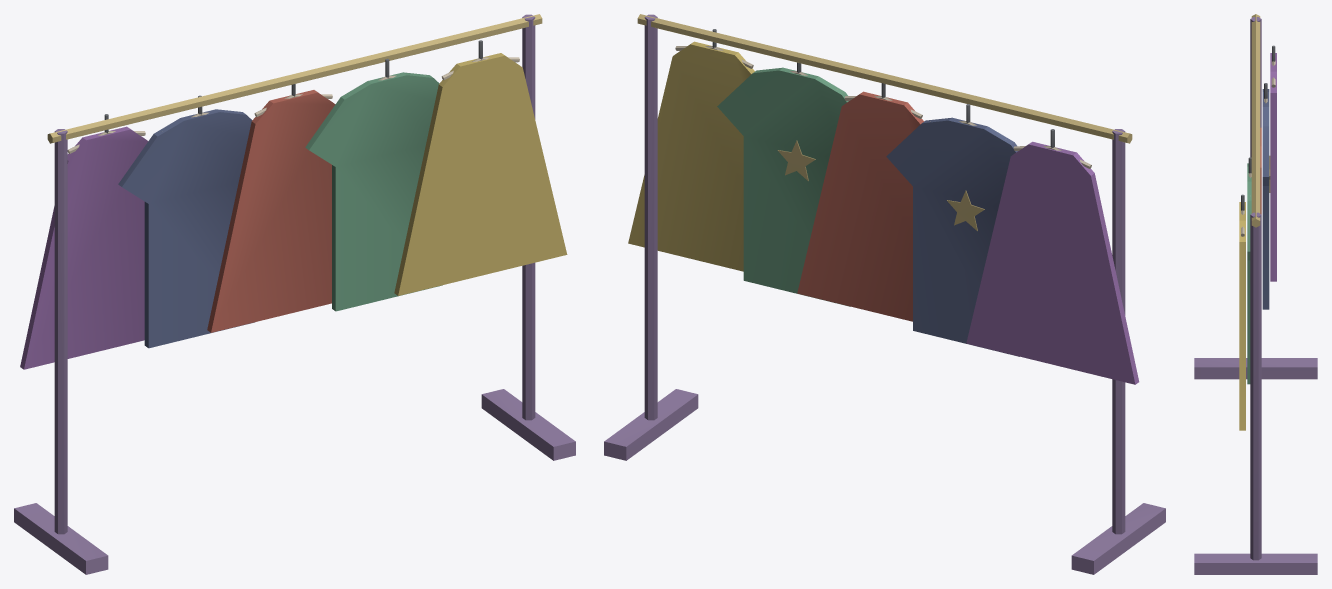
Rendered from wear_rack_straight__costume.glb.
The picture shows the model from 3 angles, left to right: view 1: azimuth 30°, elevation 25°; view 2: azimuth 150°, elevation 25°; view 3: azimuth 270°, elevation 25°; orthographic projection. The views are drawn at different scales.
Parts seen in each view (by area): view 1: wear.rack_straight__costume; view 2: wear.rack_straight__costume; view 3: wear.rack_straight__costume.
Boxes of the visible parts, x1,y1,x2,y2 form: wear.rack_straight__costume: (14,14,575,574); wear.rack_straight__costume: (604,14,1165,574); wear.rack_straight__costume: (1194,14,1317,574).
Bounding box in the file's own units: 2.36 × 1.78 × 0.56.
